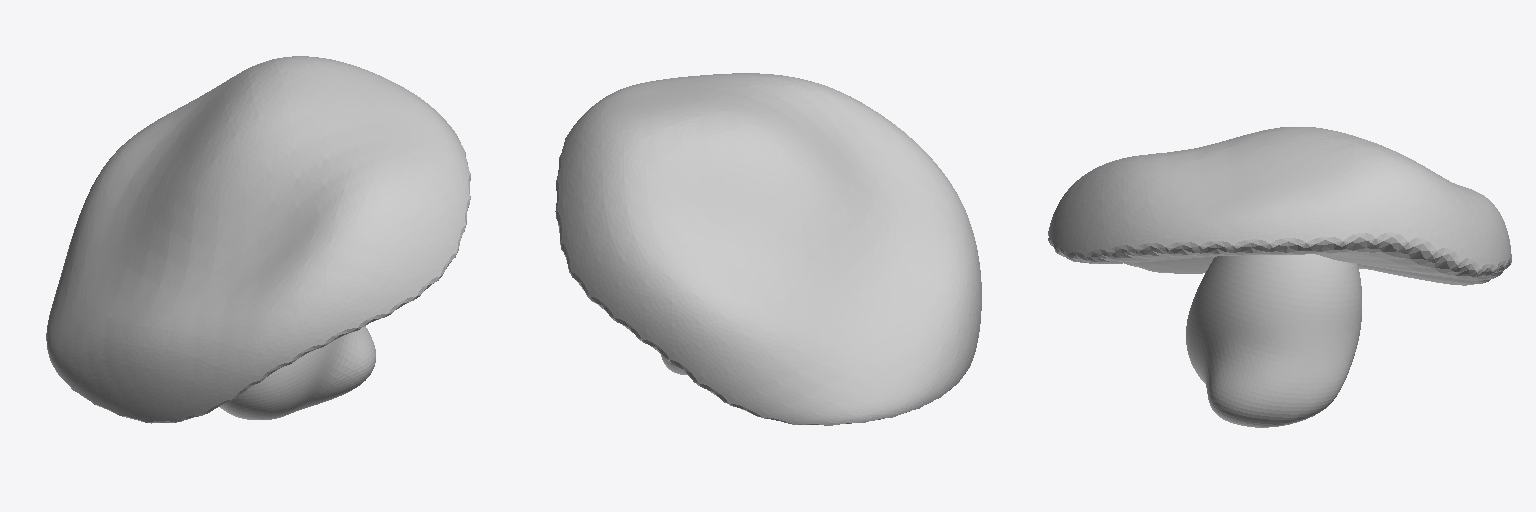
File: mushroom.obj
The picture shows the model from 3 angles: view 1: azimuth 30°, elevation 25°; view 2: azimuth 150°, elevation 25°; view 3: azimuth 270°, elevation 25°; orthographic projection.
Parts seen in each view (by area): view 1: Mesh.001_gubka; view 2: Mesh.001_gubka; view 3: Mesh.001_gubka.
Part boxes in pixels (bbox=[...]): Mesh.001_gubka: bbox=[46, 56, 470, 423]; Mesh.001_gubka: bbox=[555, 73, 981, 425]; Mesh.001_gubka: bbox=[1048, 127, 1511, 427].
Size of the model in its own units: 1.33 by 1.02 by 1.48.